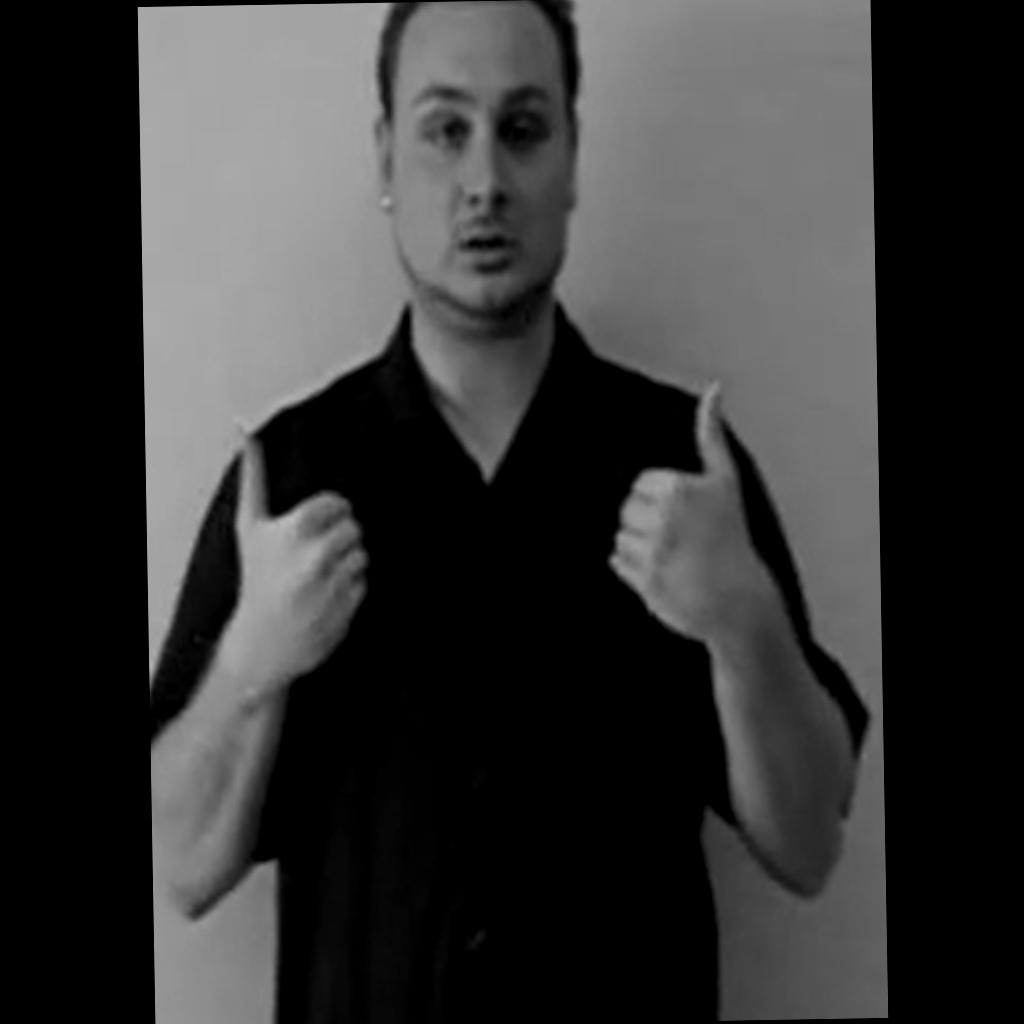have: (231, 378, 751, 668)
